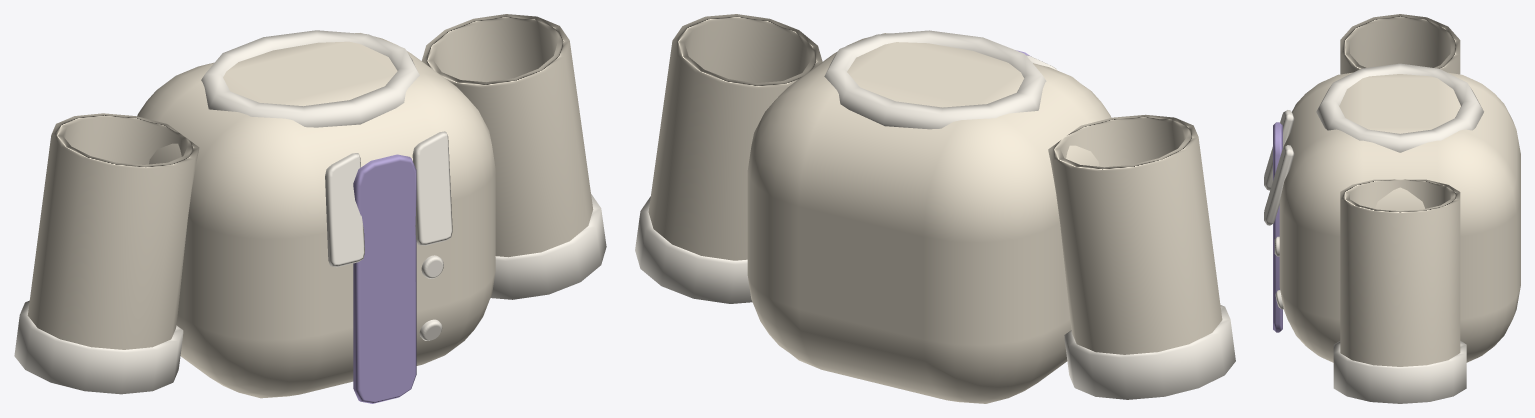
File: boa_blouson.glb
3 views of the same model, side by side, from view 1: azimuth 30°, elevation 25°; view 2: azimuth 150°, elevation 25°; view 3: azimuth 270°, elevation 25° (orthographic). The views are drawn at different scales.
Parts seen in each view (by area): view 1: boa_blouson_Body, boa_blouson_ArmL, boa_blouson_ArmR; view 2: boa_blouson_Body, boa_blouson_ArmL, boa_blouson_ArmR; view 3: boa_blouson_Body, boa_blouson_ArmR, boa_blouson_ArmL.
Boxes of the visible parts, x1=… form: boa_blouson_Body: x1=137, y1=30, x2=495, y2=403; boa_blouson_ArmL: x1=14, y1=113, x2=199, y2=394; boa_blouson_ArmR: x1=422, y1=14, x2=606, y2=299; boa_blouson_Body: x1=747, y1=30, x2=1111, y2=403; boa_blouson_ArmL: x1=1048, y1=114, x2=1235, y2=399; boa_blouson_ArmR: x1=635, y1=14, x2=822, y2=303; boa_blouson_Body: x1=1264, y1=63, x2=1520, y2=362; boa_blouson_ArmR: x1=1333, y1=179, x2=1466, y2=403; boa_blouson_ArmL: x1=1340, y1=14, x2=1460, y2=74.
Size of the model in its own units: 0.6504 by 0.3119 by 0.3085.
